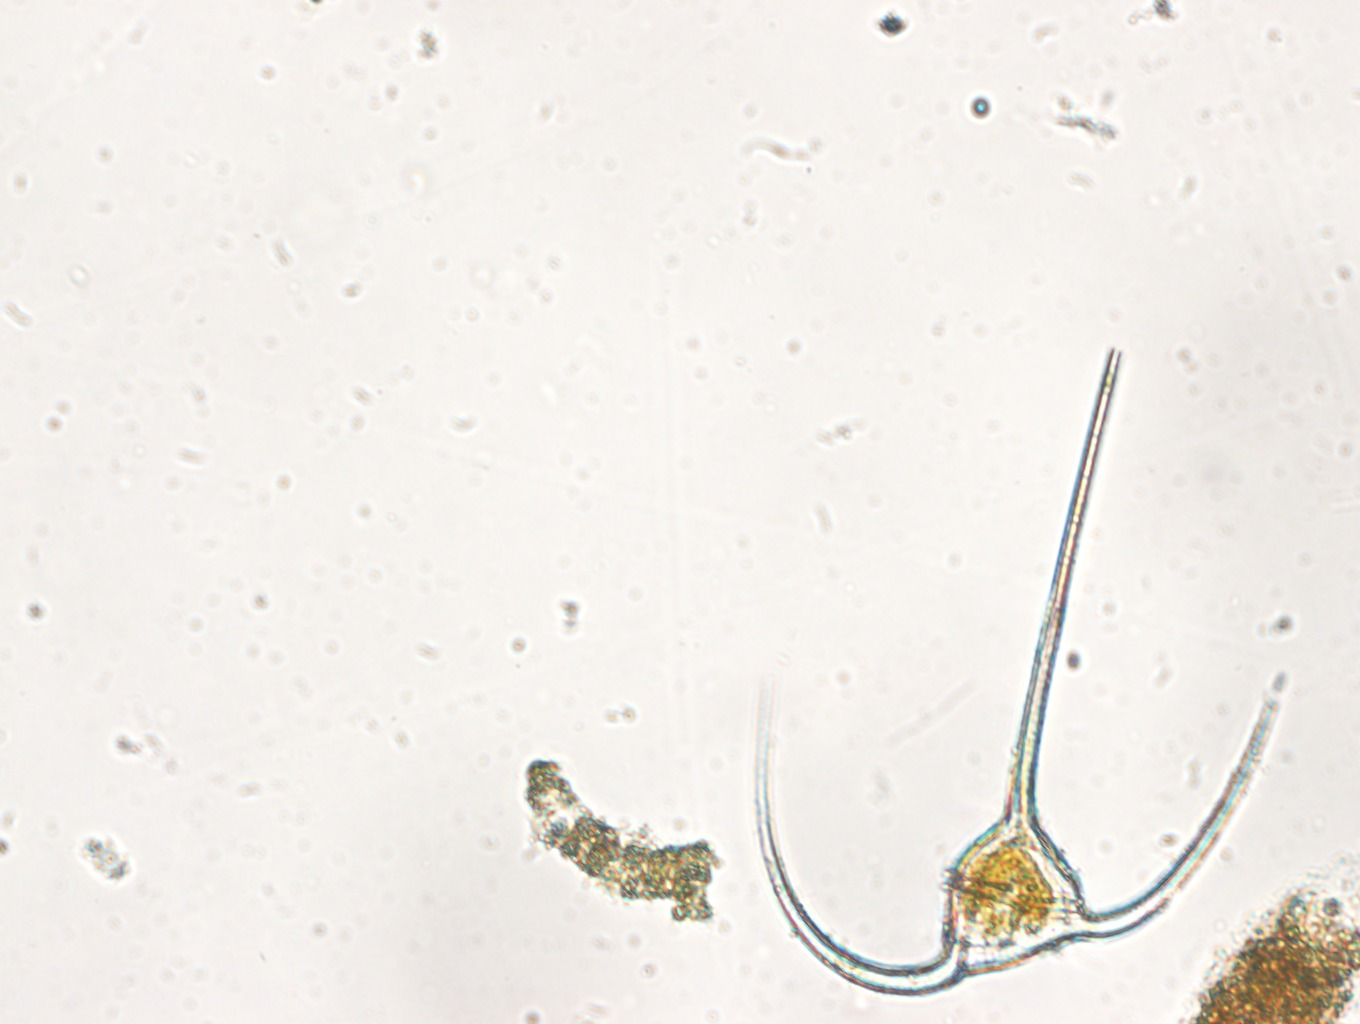ceratium trichoceros: (751, 339, 1295, 1001)
